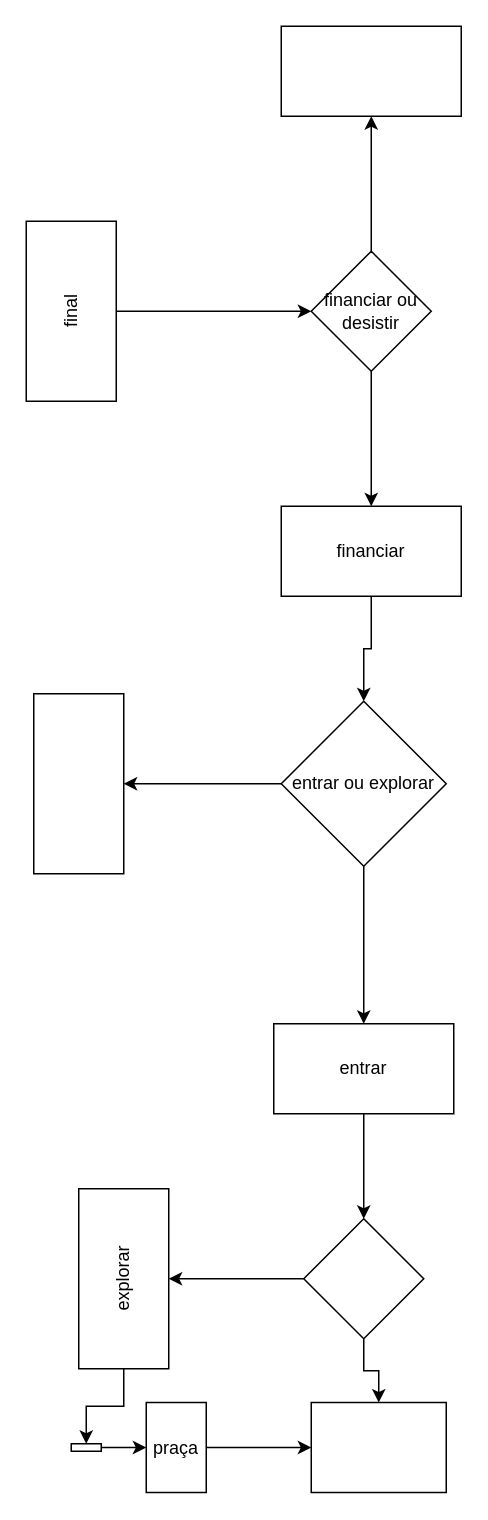
Some shapes in this 488 by 1520 pixel diagram are drawn without their labels. Here are the shapes that lost their labels. From the top down, the box of each, then its label:
(280, 25, 461, 116): desistir - morte
(32, 692, 124, 874): explorar - morte
(302, 1217, 424, 1339): seguir ou explorar
(310, 1401, 446, 1492): seguir - sucesso
